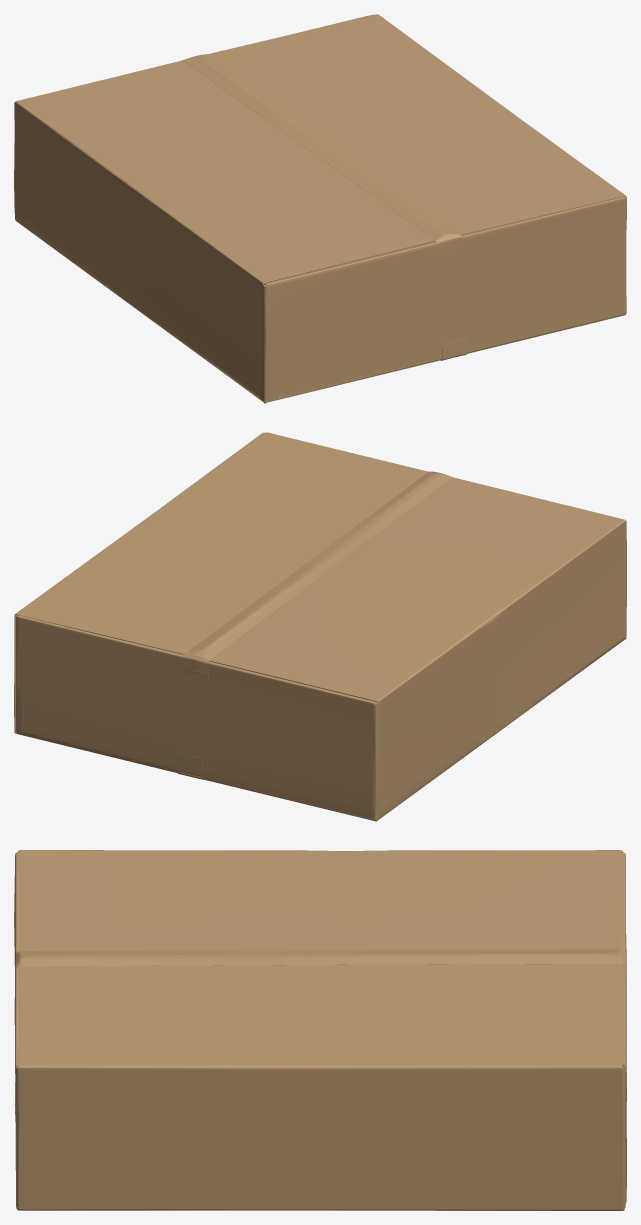
The model's file is box_flat_brown_b16.glb.
The picture shows the model from 3 angles, top to bottom: view 1: azimuth 30°, elevation 25°; view 2: azimuth 150°, elevation 25°; view 3: azimuth 270°, elevation 25°; orthographic projection. The views are drawn at different scales.
Size of the model in its own units: 0.5095 by 0.1656 by 0.6103.
